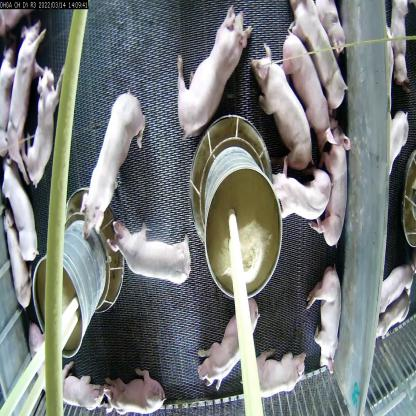Pig: (80, 89, 150, 237), (252, 53, 324, 176), (18, 66, 87, 190), (101, 194, 194, 284), (177, 7, 240, 122), (292, 0, 352, 120), (194, 290, 260, 395), (3, 21, 50, 163), (282, 50, 335, 162), (316, 115, 357, 253), (304, 260, 348, 379), (0, 163, 47, 268), (271, 157, 337, 222), (24, 322, 69, 410), (51, 350, 108, 416), (237, 349, 310, 399), (96, 370, 175, 415), (2, 215, 34, 324), (378, 298, 416, 357), (372, 264, 416, 304)
